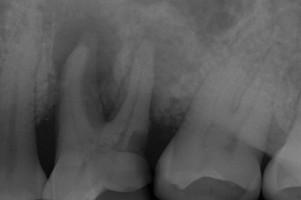Dental Caries: (43, 14, 203, 123)
